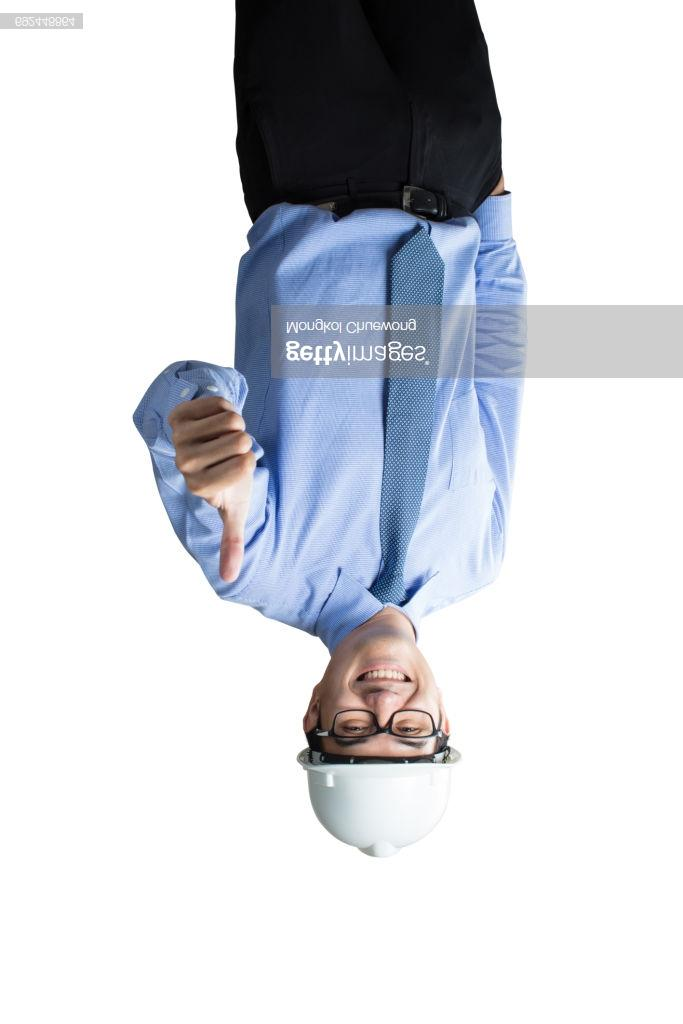thumbsdown: (167, 397, 257, 583)
